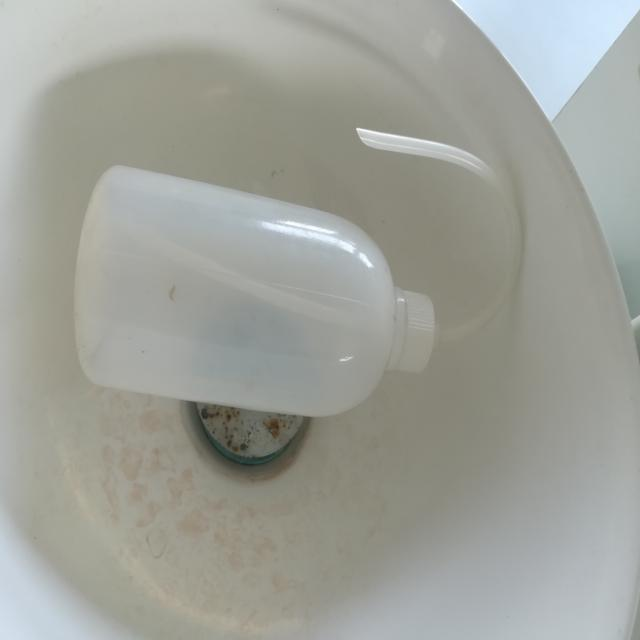Wash_Bottle: (54, 76, 548, 449)
